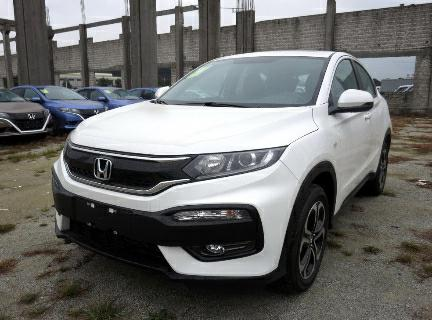本田-XR-V: (43, 45, 399, 295)
